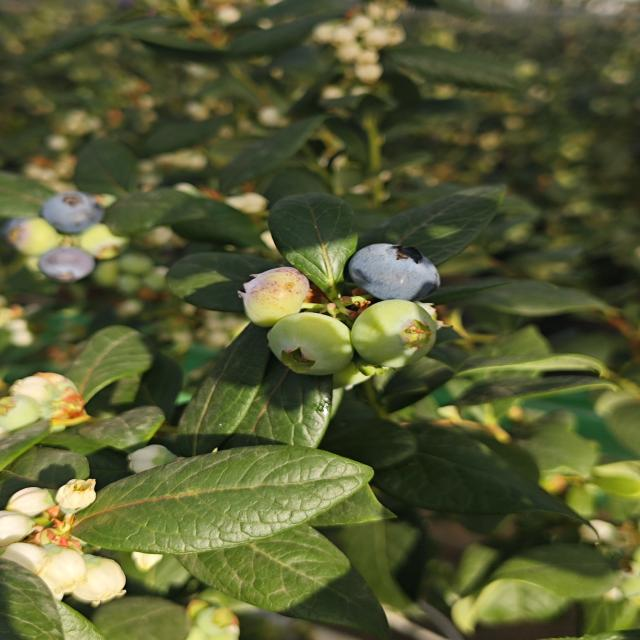ripe: (342, 237, 442, 306), (37, 185, 107, 236), (27, 246, 104, 284)
